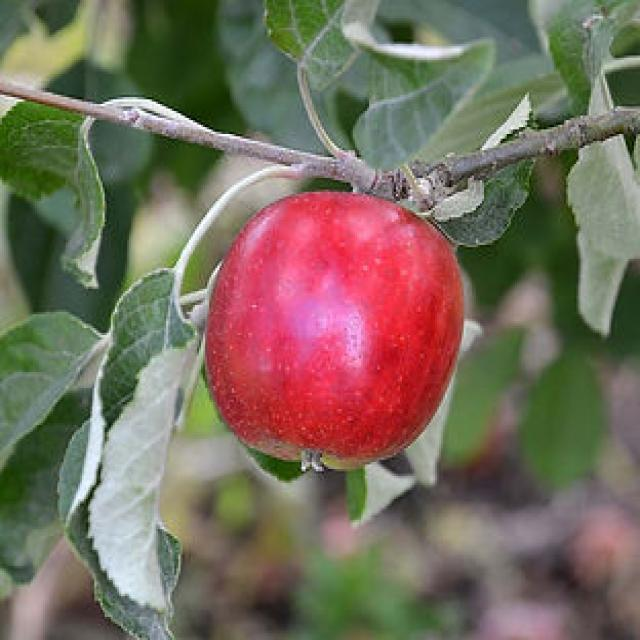Apple: (211, 186, 466, 474)
